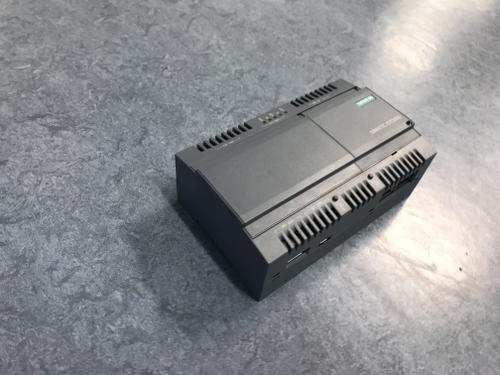device: (175, 79, 438, 302)
